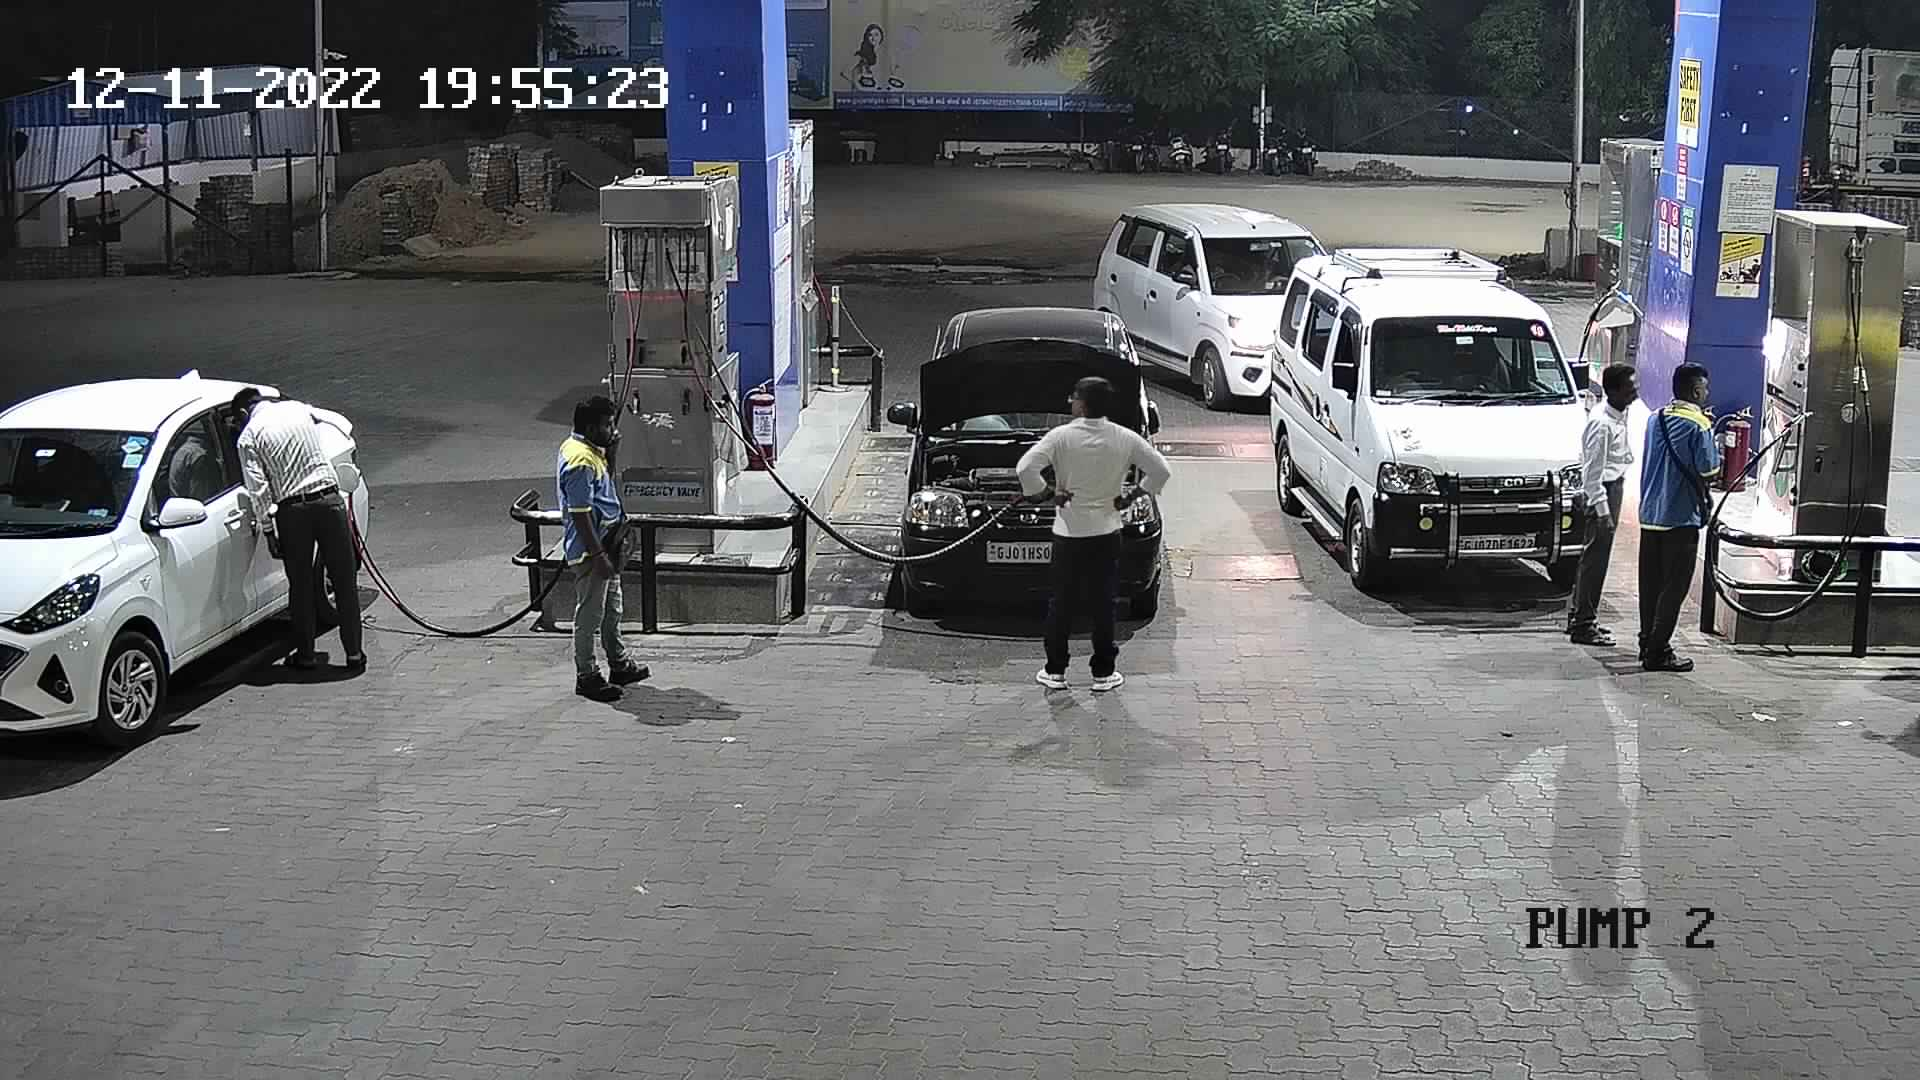Bike: (1196, 111, 1245, 179), (1114, 107, 1156, 177), (1286, 111, 1325, 182), (1155, 111, 1196, 177), (1257, 113, 1296, 179)
Car: (0, 348, 360, 752), (1261, 237, 1614, 585), (868, 287, 1175, 620), (1080, 187, 1341, 406)
HMV: (1784, 36, 1913, 200)
Others: (554, 386, 654, 705), (1629, 353, 1721, 676)
